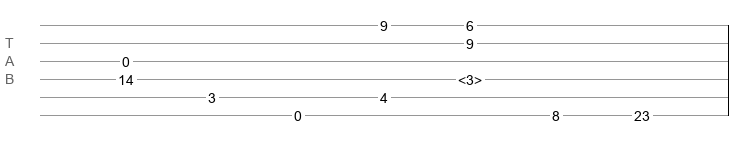0: (122, 54, 130, 64), (294, 108, 302, 118)
14: (118, 72, 134, 82)
23: (634, 108, 650, 118)
3: (208, 90, 216, 100)
4: (380, 90, 388, 100)
6: (466, 18, 474, 28)
8: (552, 108, 560, 118)
9: (380, 18, 388, 28), (466, 36, 474, 46)
harmonic: (458, 72, 482, 82)
